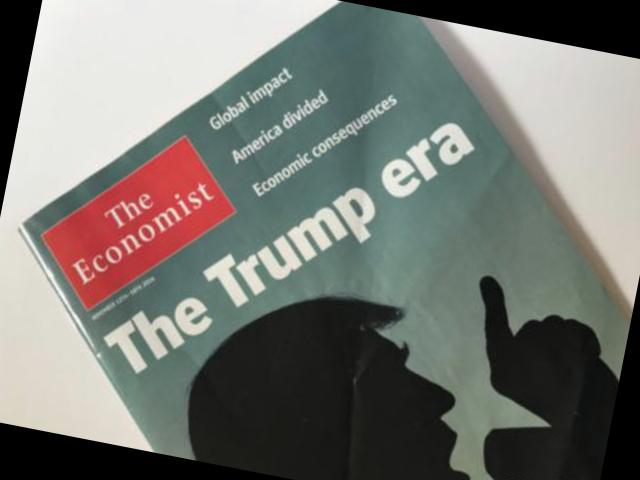cardboard paper: (18, 0, 631, 480)
